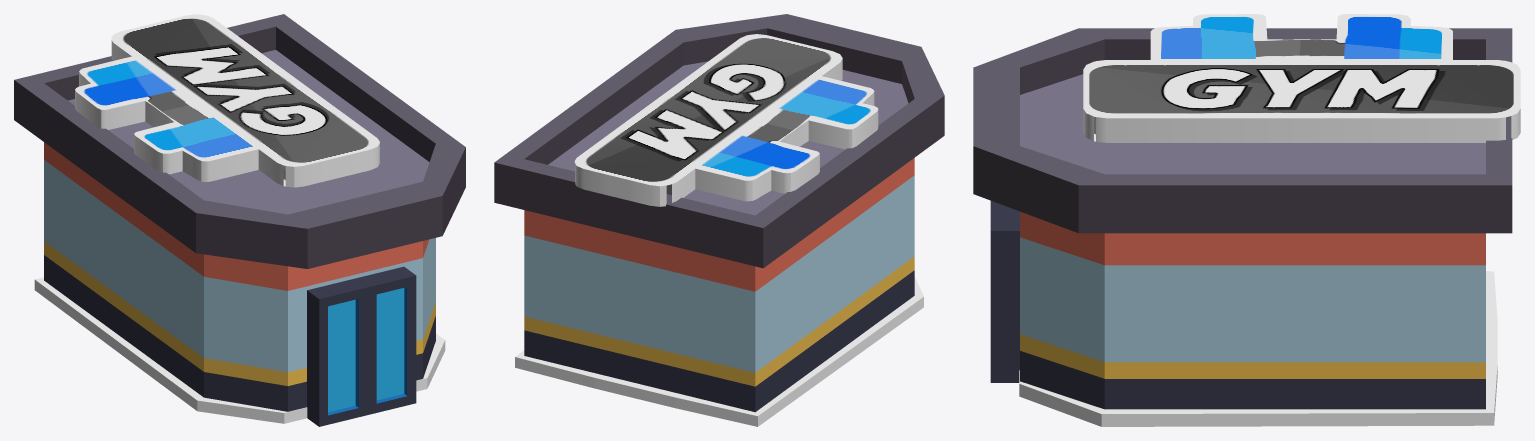
File: Lvl5_Home.fbx
The picture shows the model from 3 angles, left to right: view 1: azimuth 30°, elevation 25°; view 2: azimuth 150°, elevation 25°; view 3: azimuth 270°, elevation 25°; orthographic projection. The views are drawn at different scales.
Parts seen in each view (by area): view 1: Lvl5_Home, Logo_Plane; view 2: Lvl5_Home, Logo_Plane; view 3: Lvl5_Home, Logo_Plane.
Part boxes in pixels (left/top/right/bottom): Lvl5_Home: left=14, top=14, right=465, bottom=426; Logo_Plane: left=75, top=14, right=379, bottom=187; Lvl5_Home: left=494, top=14, right=944, bottom=426; Logo_Plane: left=574, top=34, right=878, bottom=206; Lvl5_Home: left=973, top=28, right=1512, bottom=426; Logo_Plane: left=1083, top=14, right=1520, bottom=142.
Size of the model in its own units: 301 by 242 by 444.
